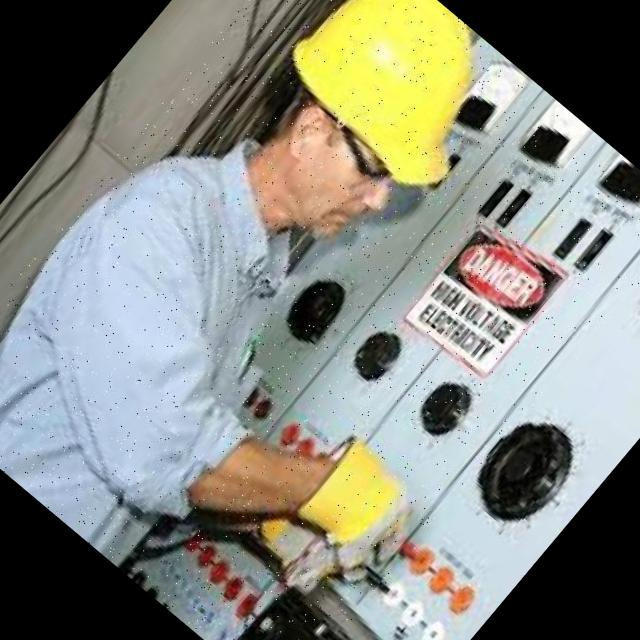hard_hat: (265, 0, 531, 211)
vehicle: (0, 0, 640, 640)
